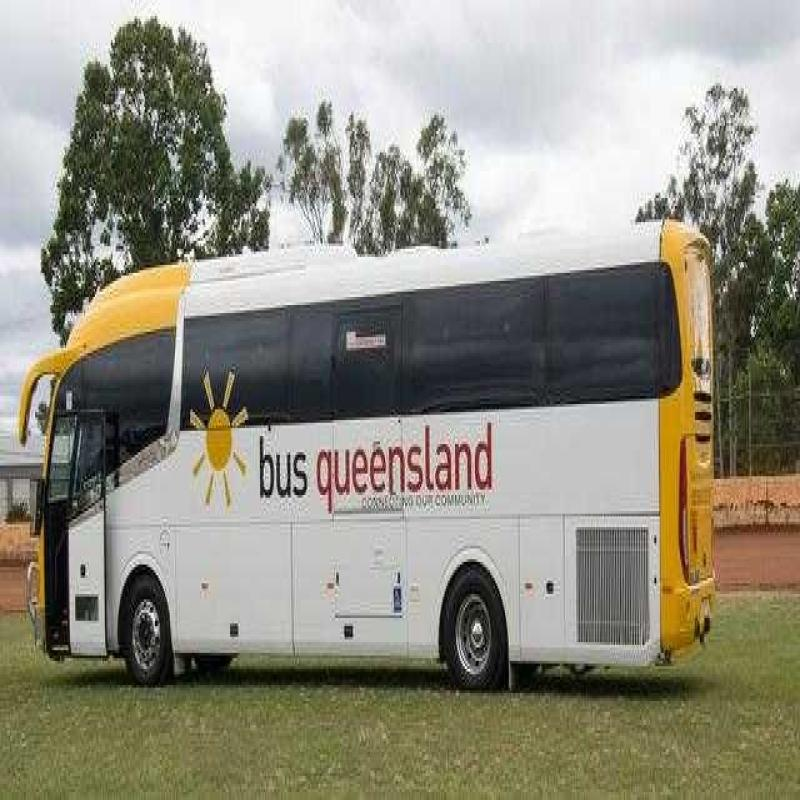bus: (16, 204, 737, 707)
